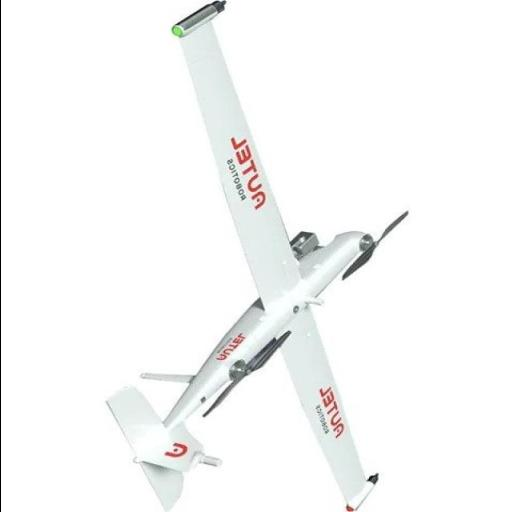uav: (99, 0, 409, 508)
